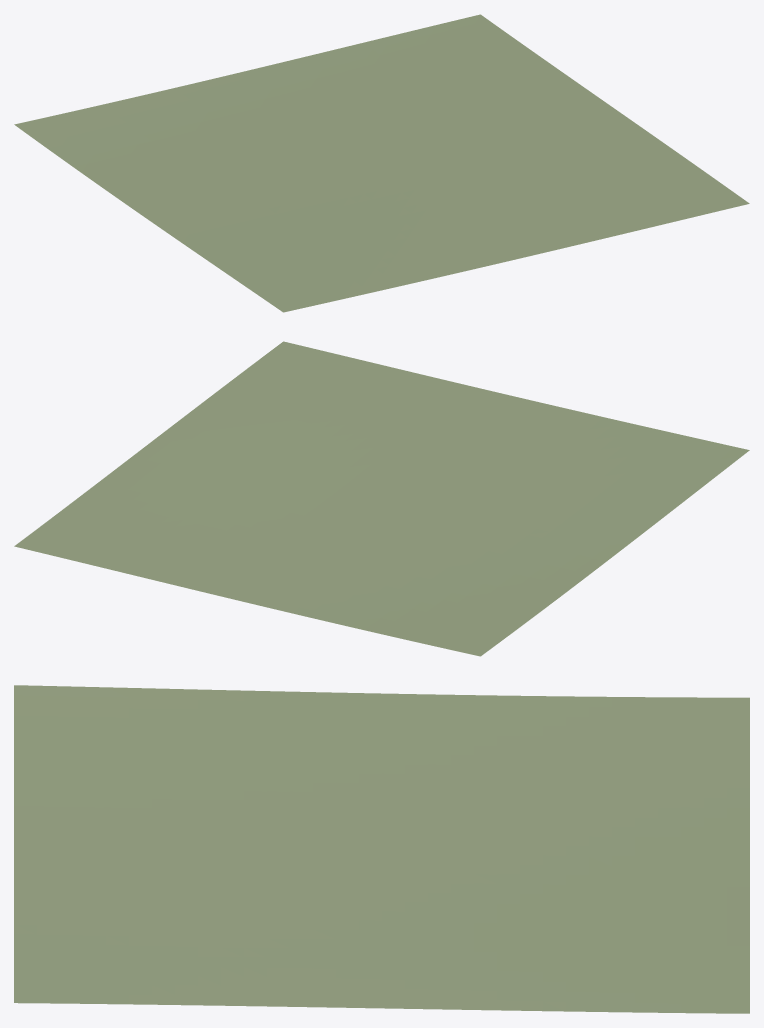
Rendered from expanse-20-25.glb.
3 views of the same model, one above another, from view 1: azimuth 30°, elevation 25°; view 2: azimuth 150°, elevation 25°; view 3: azimuth 270°, elevation 25° (orthographic). The views are drawn at different scales.
Visible parts, largest first — view 1: expanse-20-25; view 2: expanse-20-25; view 3: expanse-20-25.
Boxes of the visible parts, left/top/right/bottom form: expanse-20-25: left=14, top=14, right=749, bottom=312; expanse-20-25: left=14, top=341, right=749, bottom=656; expanse-20-25: left=14, top=685, right=749, bottom=1013.
Bounding box in the file's own units: 256 × 6.76 × 256.
